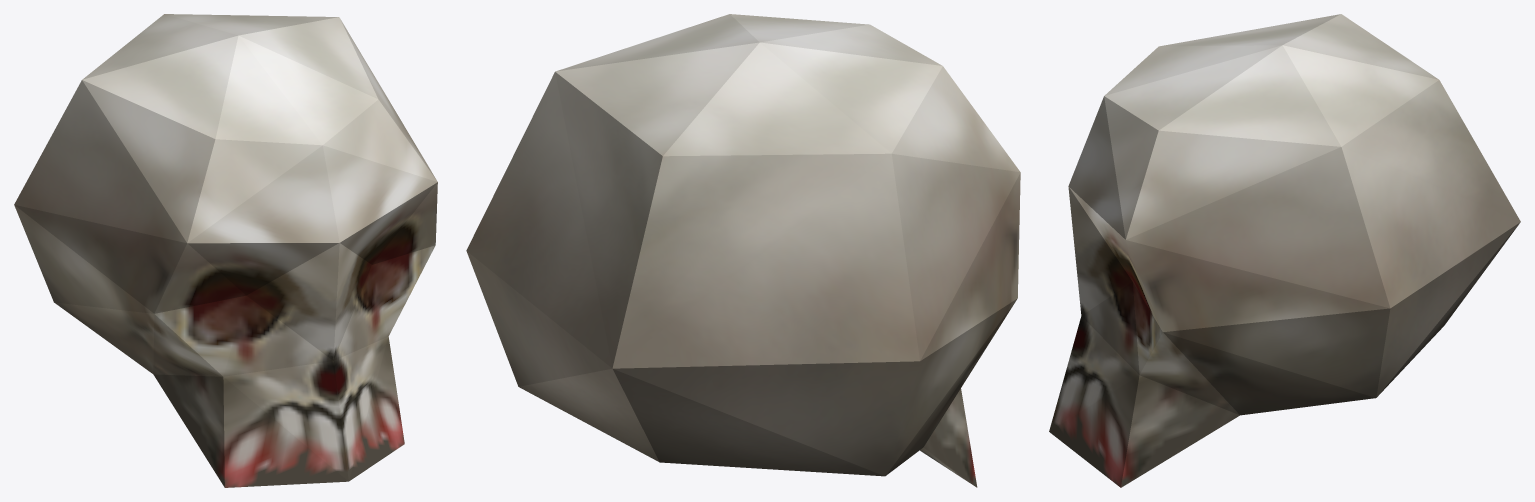
Rendered from kulou.FBX.
The picture shows the model from 3 angles, left to right: view 1: azimuth 30°, elevation 25°; view 2: azimuth 150°, elevation 25°; view 3: azimuth 270°, elevation 25°; orthographic projection. The views are drawn at different scales.
Visible parts, largest first — view 1: Object001; view 2: Object001; view 3: Object001.
Boxes of the visible parts, <box> form: Object001: <box>14,14,437,487</box>; Object001: <box>466,14,1020,487</box>; Object001: <box>1049,14,1520,487</box>.
Size of the model in its own units: 61.51 by 63.48 by 68.5.
